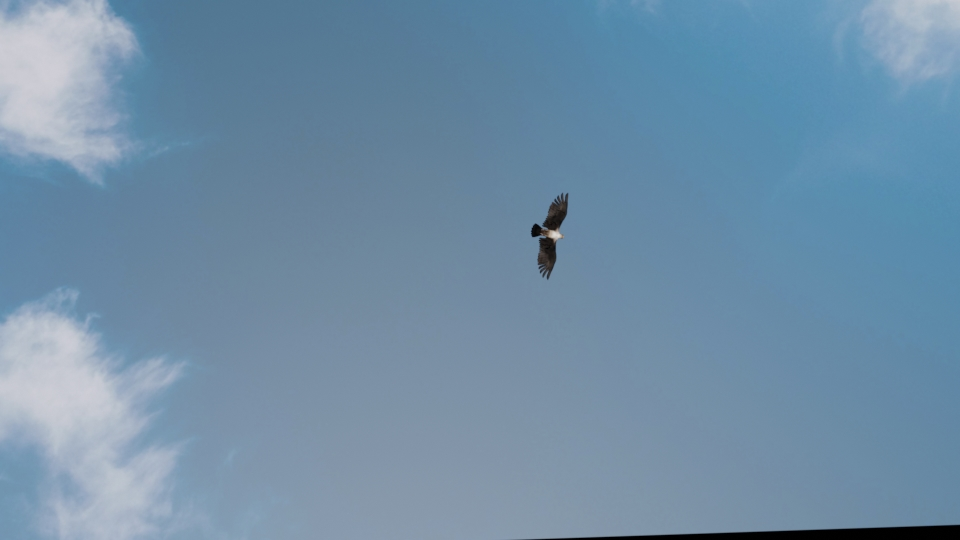bird: (530, 189, 573, 279)
